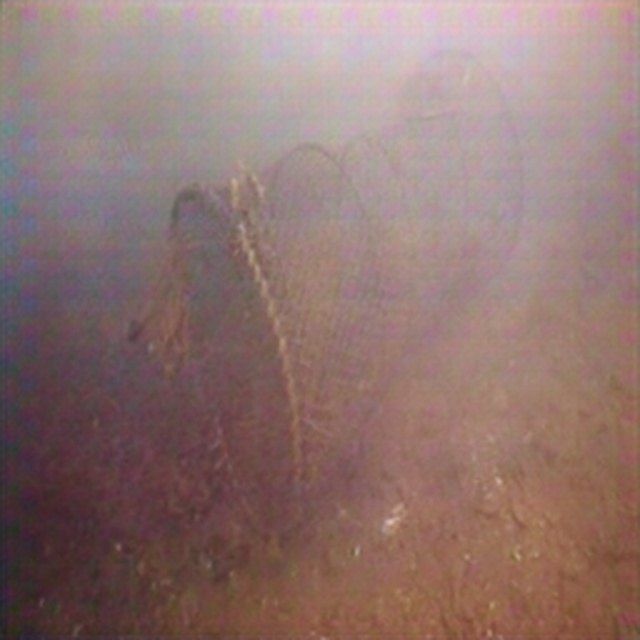mine: (168, 46, 523, 539)
